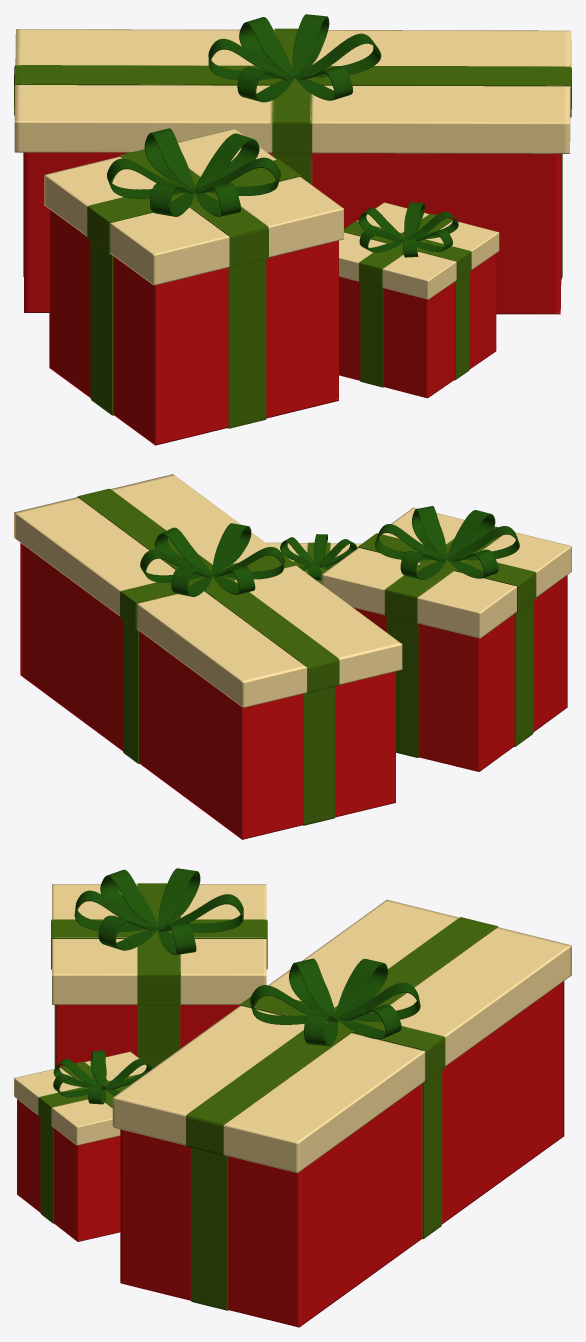
The model's file is ChristmasPresents2.fbx.
The picture shows the model from 3 angles, top to bottom: view 1: azimuth 30°, elevation 25°; view 2: azimuth 150°, elevation 25°; view 3: azimuth 270°, elevation 25°; orthographic projection. The views are drawn at different scales.
Visible parts, largest first — view 1: Bow.003, Bow.002, Bow.001; view 2: Bow.003, Bow.002, Bow.001; view 3: Bow.003, Bow.002, Bow.001.
Boxes of the visible parts, x1=… form: Bow.003: x1=14, y1=14, x2=571, y2=314; Bow.002: x1=44, y1=128, x2=343, y2=445; Bow.001: x1=339, y1=202, x2=499, y2=398; Bow.003: x1=14, y1=474, x2=402, y2=839; Bow.002: x1=322, y1=506, x2=571, y2=771; Bow.001: x1=266, y1=534, x2=361, y2=584; Bow.003: x1=112, y1=899, x2=571, y2=1327; Bow.002: x1=51, y1=868, x2=267, y2=1068; Bow.001: x1=14, y1=1050, x2=152, y2=1241.
Size of the model in its own units: 592 by 238 by 538.
1 material, 1 textured.
